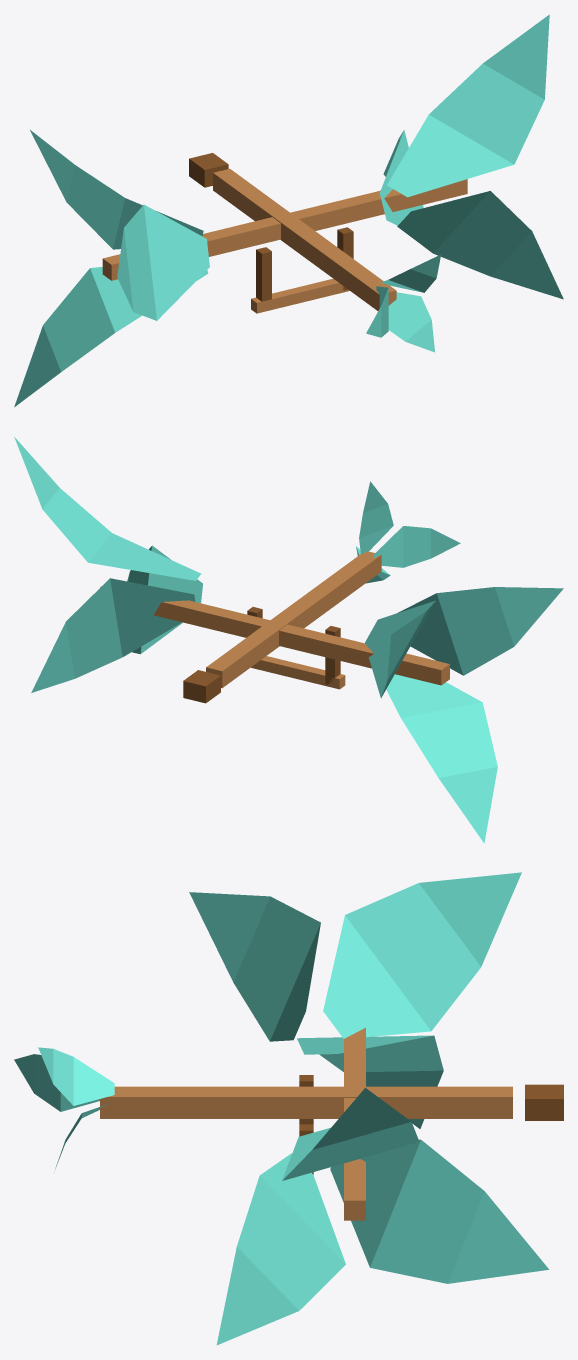
File: leaf-glider.glb
3 renders of one model, top to bottom at view 1: azimuth 30°, elevation 25°; view 2: azimuth 150°, elevation 25°; view 3: azimuth 270°, elevation 25°, orthographic. The views are drawn at different scales.
Parts seen in each view (by area): view 1: plant_bushTriangle (×3), spar, crossbar, hang-bar, nose, upright-l; view 2: plant_bushTriangle (×3), crossbar, spar, hang-bar, nose; view 3: plant_bushTriangle (×3), spar, crossbar, nose.
Boxes of the visible parts, x1,y1,x2,y2 form: plant_bushTriangle (×3): [14, 14, 563, 407]; spar: [213, 168, 396, 310]; crossbar: [102, 179, 467, 280]; hang-bar: [251, 278, 349, 313]; nose: [189, 153, 228, 187]; upright-l: [256, 247, 271, 301]; plant_bushTriangle (×3): [14, 436, 563, 843]; crossbar: [100, 586, 449, 685]; spar: [206, 551, 381, 688]; hang-bar: [251, 656, 345, 689]; nose: [183, 670, 220, 703]; plant_bushTriangle (×3): [14, 872, 548, 1345]; spar: [100, 1086, 512, 1118]; crossbar: [344, 1027, 365, 1220]; nose: [525, 1084, 563, 1120].
Size of the model in its own units: 1.51 by 0.8009 by 1.13.
